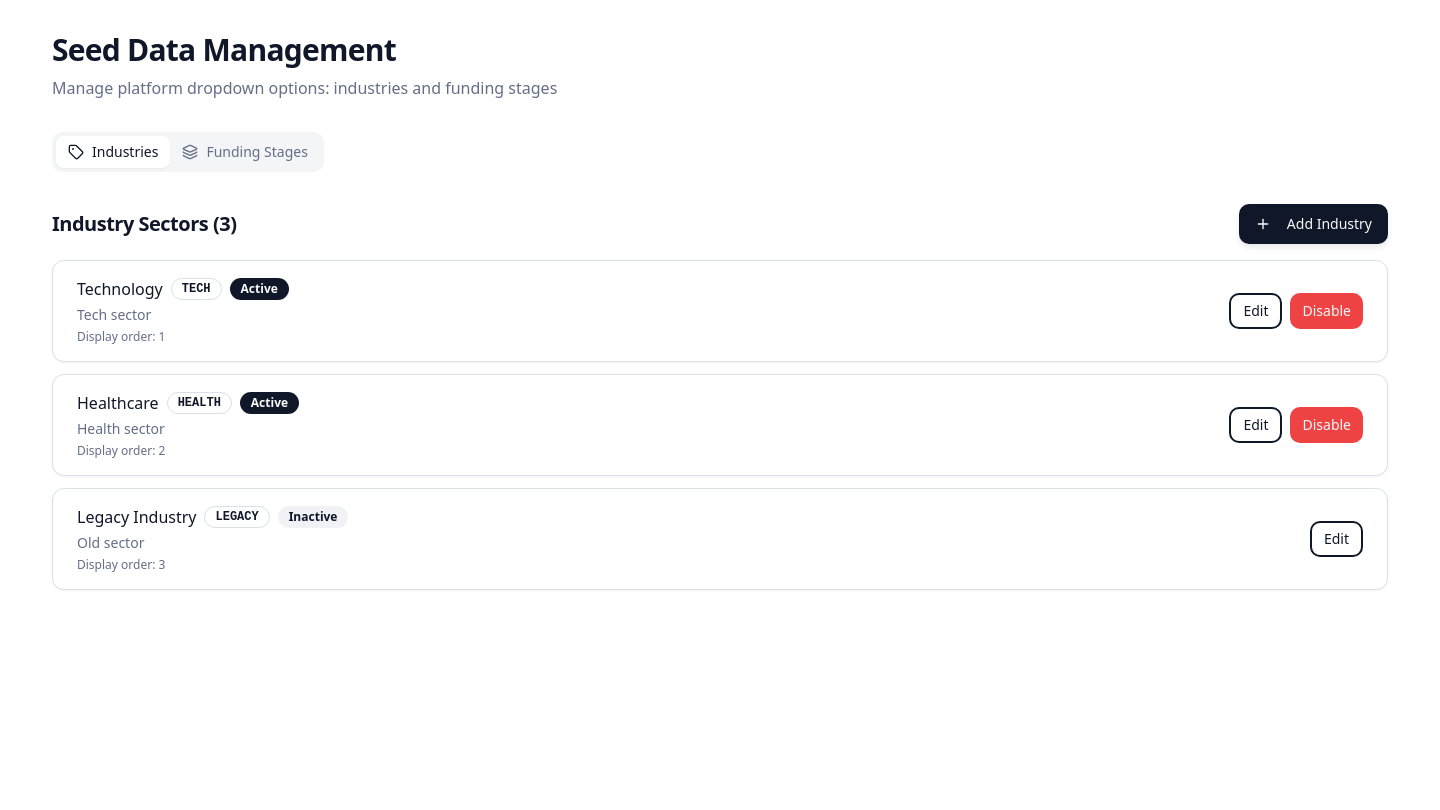
Test: US-SEED-001: Admin Manage Industries › Create Industry › should open create form when clicking Add Industry
This screenshot has width=1440, height=810.
Click the button "Add Industry" at {"x": 1313, "y": 224}, box [1239,204,1388,244]
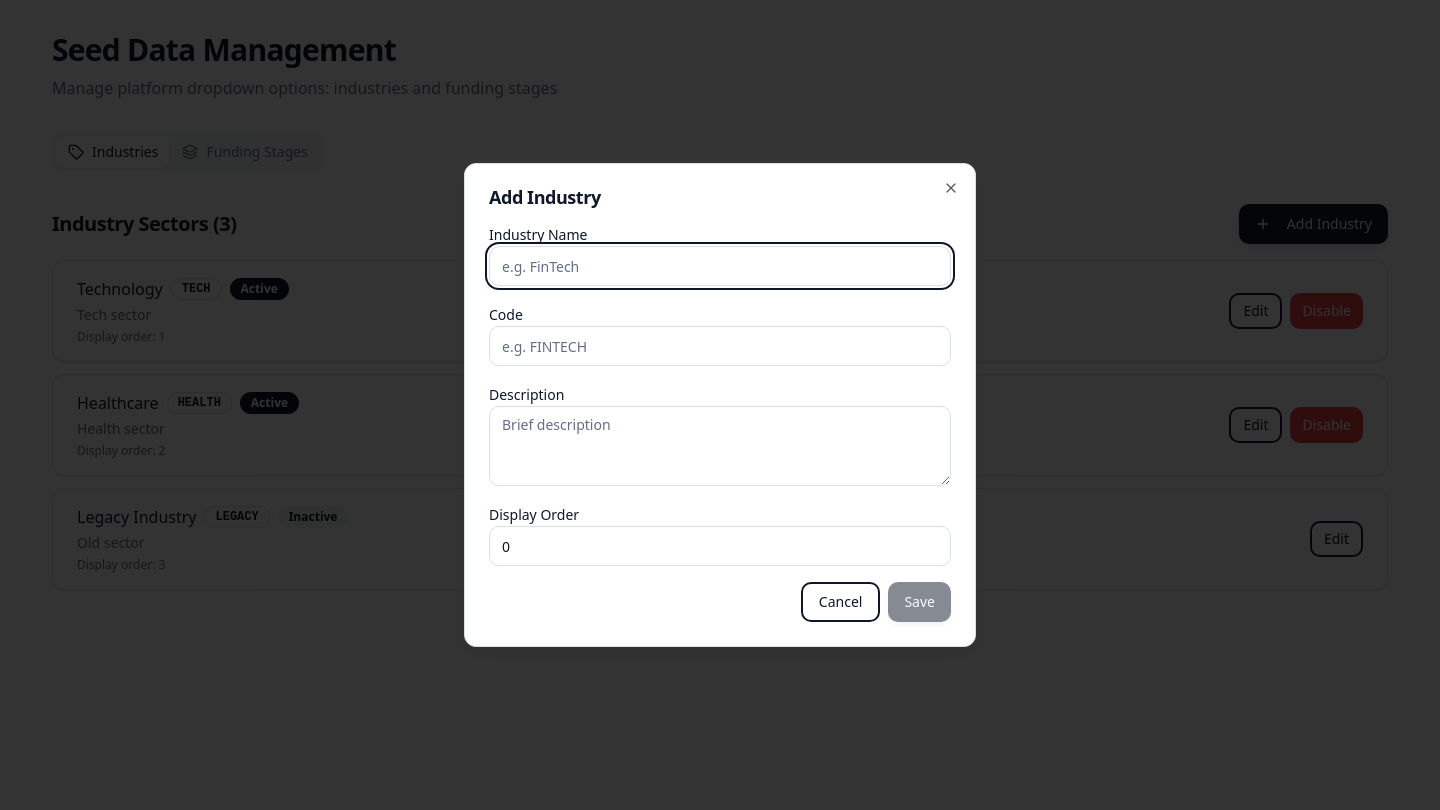
Check: the field labelled "Industry Name" is shown, box [489,246,951,286]
